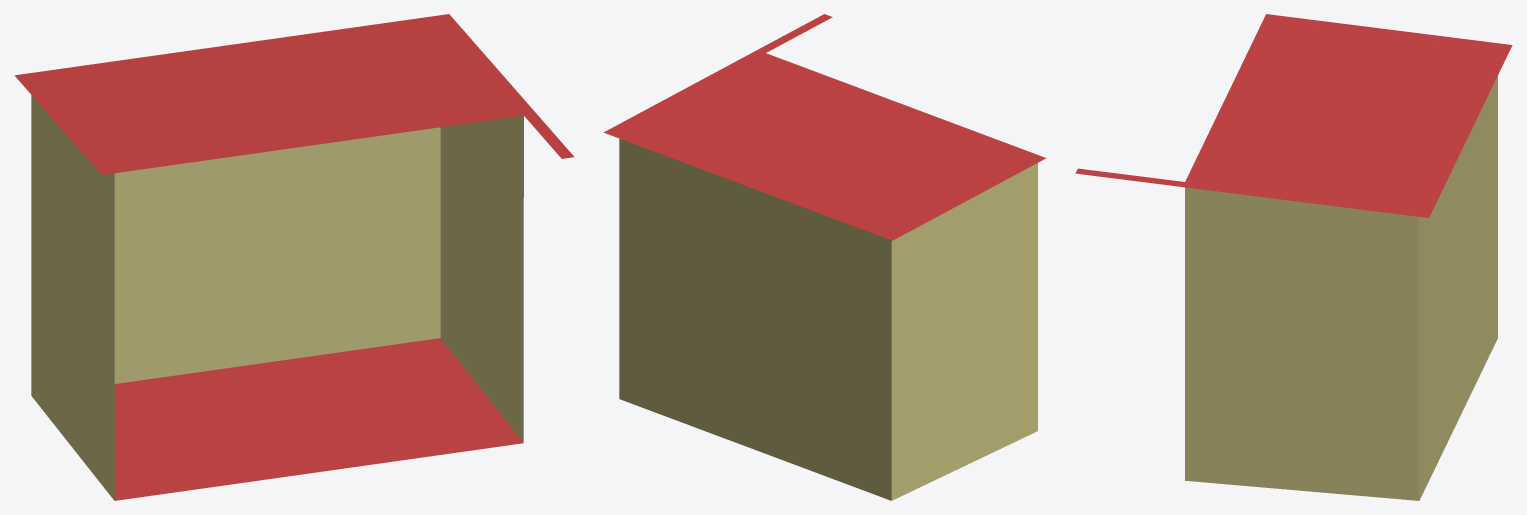
The picture shows the model from 3 angles, left to right: view 1: azimuth 30°, elevation 25°; view 2: azimuth 150°, elevation 25°; view 3: azimuth 270°, elevation 25°; orthographic projection. The views are drawn at different scales.
Bounding box in the file's own units: 9.35 × 8.89 × 6.8.
